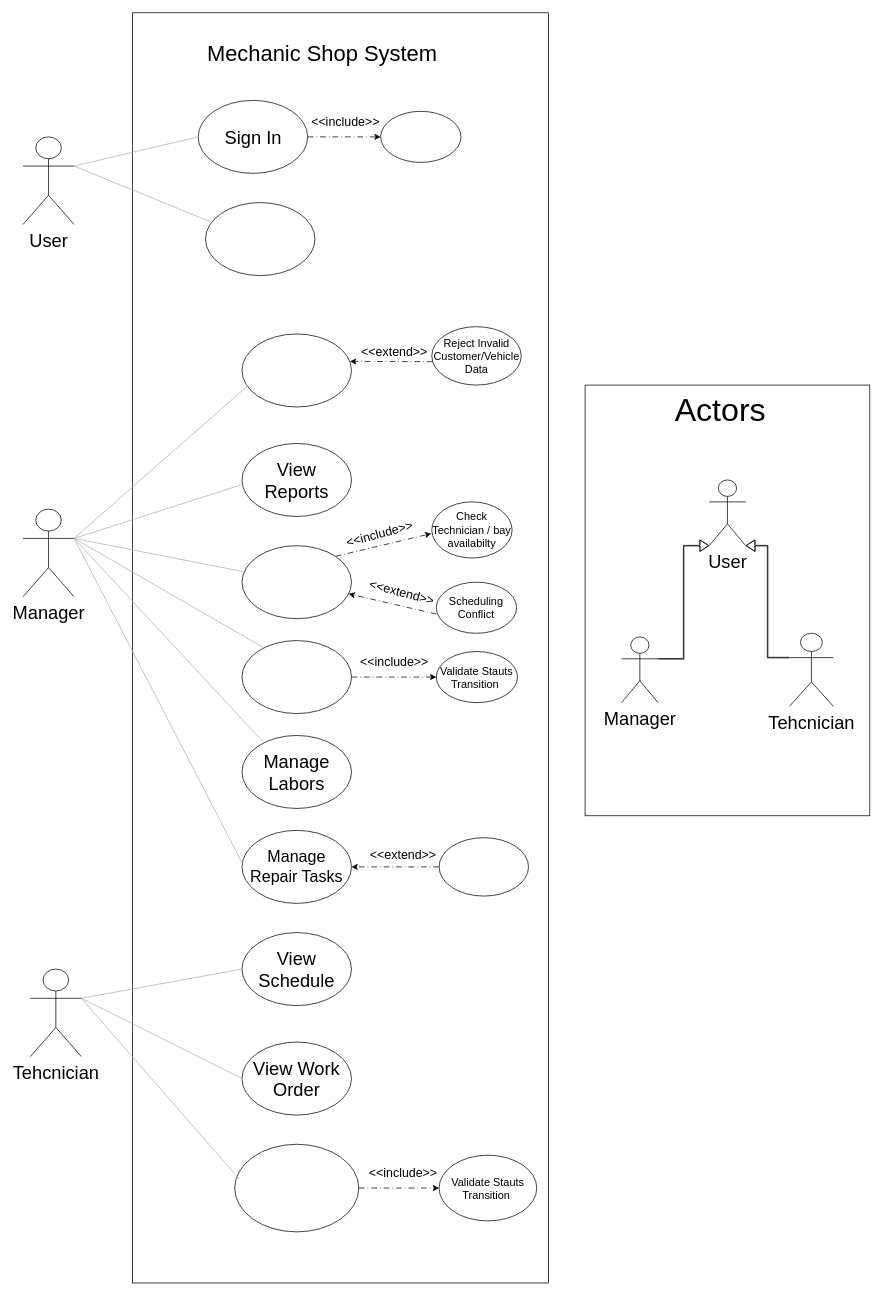
This 883x1296 diagram has some shape labels left out. The box of each missing label's shape, as (x1, y1, x2, y2) in pixels:
Authentication: (380, 111, 461, 162)
Manage Customer: (241, 333, 351, 407)
Manage Work Orders: (241, 640, 351, 714)
Reject Invalid Cost/Name: (438, 837, 529, 896)
Schedule Work Order: (241, 545, 351, 619)
Sign Out: (205, 202, 315, 276)
Update Work Order Status: (234, 1144, 359, 1232)
